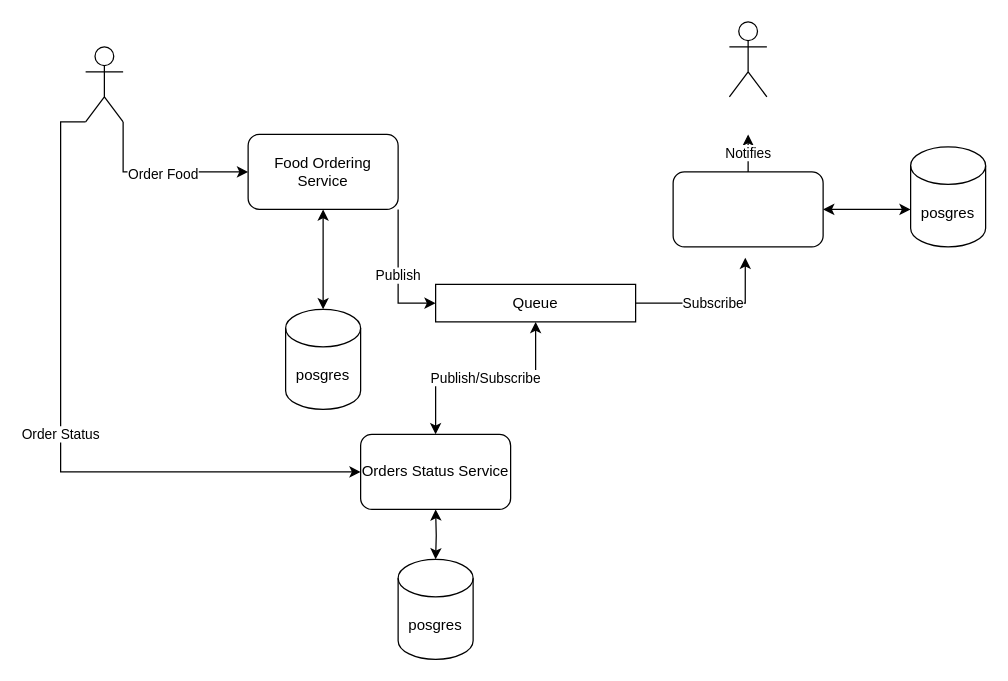
This 1008x681 diagram has some shape labels left out. The centre of each missing label's shape, as x and y in pixels:
Customer: [103,84]
Orders Viewing Service: [747,209]
Stall Owner: [747,59]
